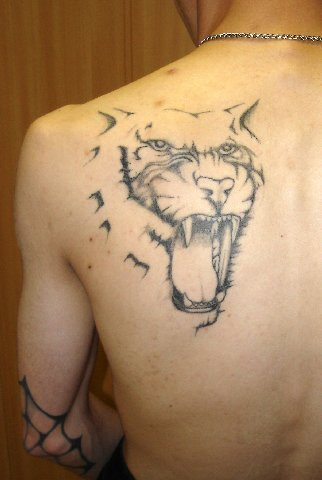tatu5_tigr: (86, 106, 267, 335)
